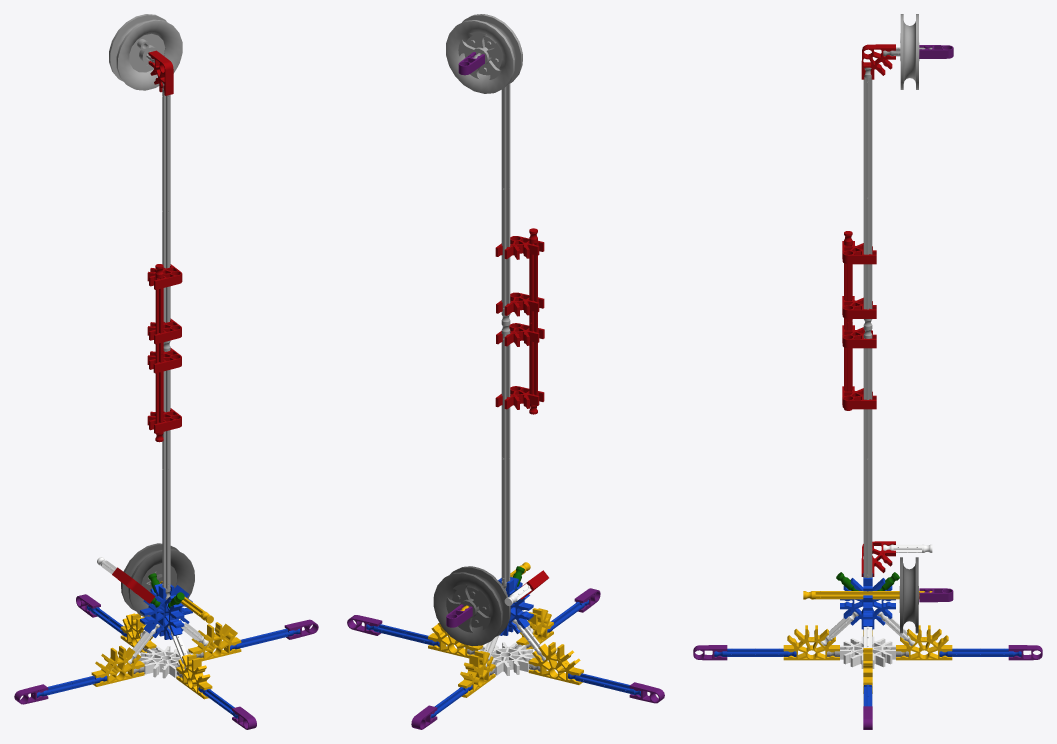
3 renders of one model, left to right at view 1: azimuth 30°, elevation 25°; view 2: azimuth 150°, elevation 25°; view 3: azimuth 270°, elevation 25°, orthographic. The views are drawn at different scales.
Parts seen in each view (by area): view 1: Untitled.1568, Untitled.1593, Untitled.1577, Untitled.1573, Untitled.1580, Untitled.1574, Untitled.1590, Untitled.1603, Untitled.1604, Untitled.1610, Untitled.1570, Untitled.1601 (+8 smaller); view 2: Untitled.1568, Untitled.1593, Untitled.1577, Untitled.1573, Untitled.1580, Untitled.1574, Untitled.1604, Untitled.1585, Untitled.1590, Untitled.1610, Untitled.1571, Untitled.1575 (+5 smaller); view 3: Untitled.1573, Untitled.1577, Untitled.1585, Untitled.1610, Untitled.1593, Untitled.1568, Untitled.1604, Untitled.1601, Untitled.1574, Untitled.1594, Untitled.1570, Untitled.1584 (+6 smaller).
Boxes of the visible parts, x1,y1,x2,y2 form: Untitled.1568: [109, 14, 182, 90]; Untitled.1593: [121, 543, 194, 617]; Untitled.1577: [162, 340, 170, 599]; Untitled.1573: [162, 82, 170, 322]; Untitled.1580: [91, 645, 144, 686]; Untitled.1574: [155, 264, 163, 442]; Untitled.1590: [188, 622, 241, 661]; Untitled.1603: [140, 584, 192, 637]; Untitled.1604: [138, 646, 193, 678]; Untitled.1610: [176, 654, 212, 699]; Untitled.1570: [148, 50, 173, 95]; Untitled.1601: [148, 583, 184, 639]; Untitled.1568: [446, 14, 522, 93]; Untitled.1593: [433, 566, 510, 646]; Untitled.1577: [501, 323, 510, 592]; Untitled.1573: [501, 84, 510, 323]; Untitled.1580: [528, 642, 583, 684]; Untitled.1574: [529, 228, 537, 414]; Untitled.1604: [478, 642, 535, 675]; Untitled.1585: [458, 650, 495, 697]; Untitled.1590: [428, 622, 483, 658]; Untitled.1610: [516, 608, 553, 649]; Untitled.1571: [495, 236, 544, 259]; Untitled.1575: [495, 386, 544, 409]; Untitled.1573: [863, 67, 872, 328]; Untitled.1577: [863, 327, 872, 577]; Untitled.1585: [896, 625, 952, 660]; Untitled.1610: [783, 625, 839, 660]; Untitled.1593: [899, 557, 918, 633]; Untitled.1568: [900, 14, 919, 89]; Untitled.1604: [840, 636, 895, 668]; Untitled.1601: [840, 578, 895, 629]; Untitled.1574: [844, 231, 852, 410]; Untitled.1594: [803, 591, 932, 599]; Untitled.1570: [861, 44, 895, 79]; Untitled.1584: [939, 648, 1021, 656].
Size of the model in its own units: 2.29 by 4.63 by 2.29.
